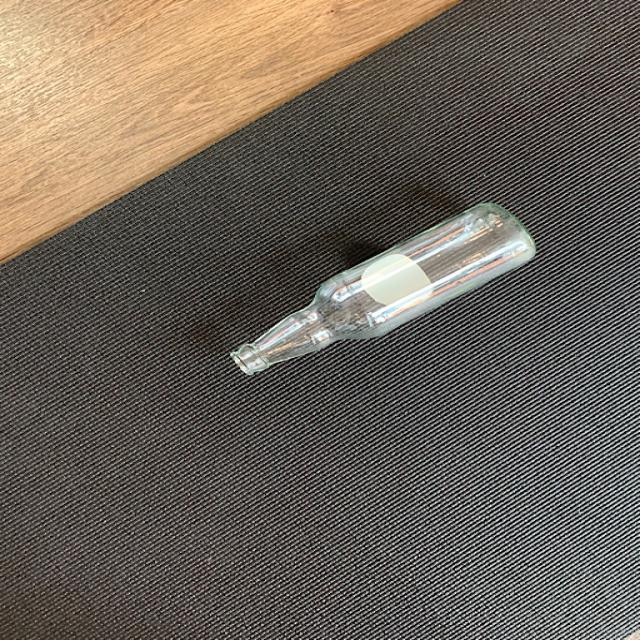litter: (224, 200, 546, 378)
